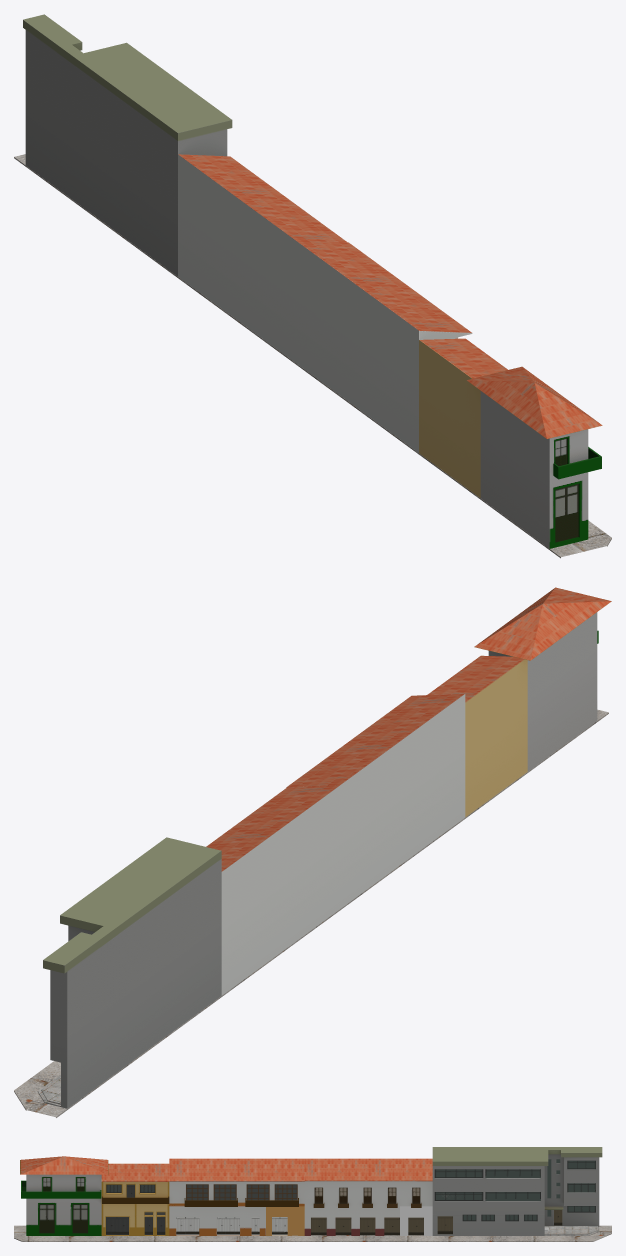
The model's file is Cuadra3.fbx.
The picture shows the model from 3 angles, top to bottom: view 1: azimuth 30°, elevation 25°; view 2: azimuth 150°, elevation 25°; view 3: azimuth 270°, elevation 25°; orthographic projection. The views are drawn at different scales.
Visible parts, largest first — view 1: casa2_cuadra_3, polySurface427, polySurface429, casa_cuadra_3, Casa6; view 2: casa2_cuadra_3, polySurface427, polySurface429, casa_cuadra_3, Casa6; view 3: casa2_cuadra_3, polySurface427, polySurface429, casa_cuadra_3, Casa6, local3, local4.
Part boxes in pixels (box(x1,y1,x2,y2)): casa2_cuadra_3: box(23, 14, 232, 276); polySurface427: box(14, 154, 611, 558); polySurface429: box(178, 154, 346, 362); casa_cuadra_3: box(466, 366, 602, 548); Casa6: box(419, 338, 507, 497); casa2_cuadra_3: box(37, 837, 221, 1108); polySurface427: box(14, 693, 608, 1117); polySurface429: box(206, 785, 339, 995); casa_cuadra_3: box(474, 587, 611, 771); Casa6: box(427, 655, 527, 816); casa2_cuadra_3: box(432, 1147, 602, 1235); polySurface427: box(14, 1158, 611, 1241); polySurface429: box(304, 1158, 432, 1235); casa_cuadra_3: box(20, 1156, 108, 1235); Casa6: box(101, 1163, 169, 1235); local3: box(266, 1206, 304, 1235); local4: box(400, 1206, 432, 1235).
Bounding box in the file's own units: 16.88 × 34.98 × 239.
Materials: 4 (2 with a texture image).
